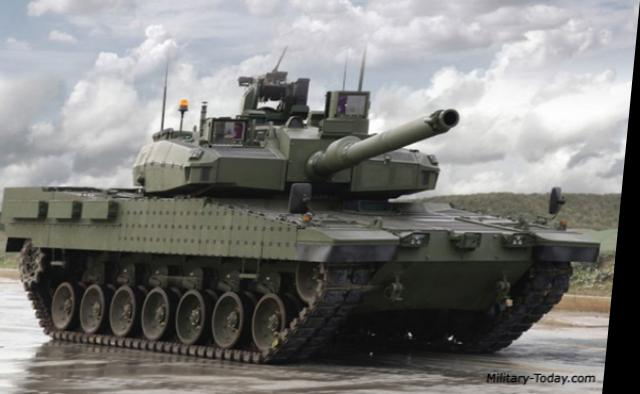tank: (0, 74, 620, 348)
